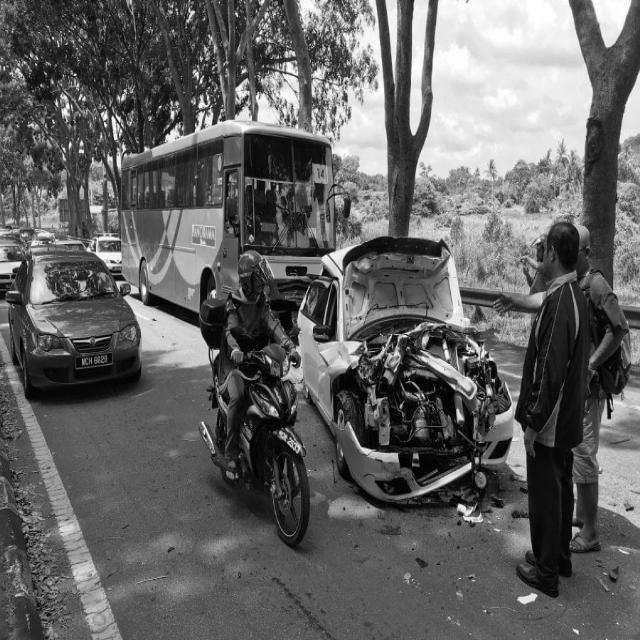accident: (300, 236, 514, 519)
vehicle: (119, 118, 337, 318), (8, 250, 144, 398)
